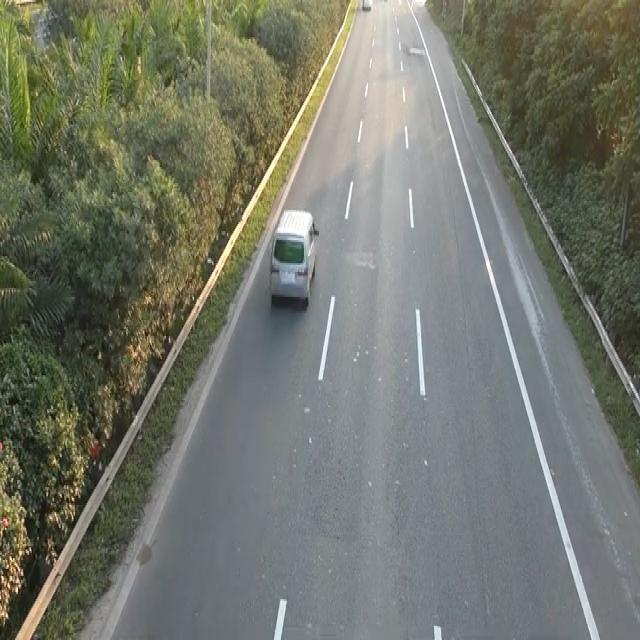lorry: (266, 205, 320, 311)
